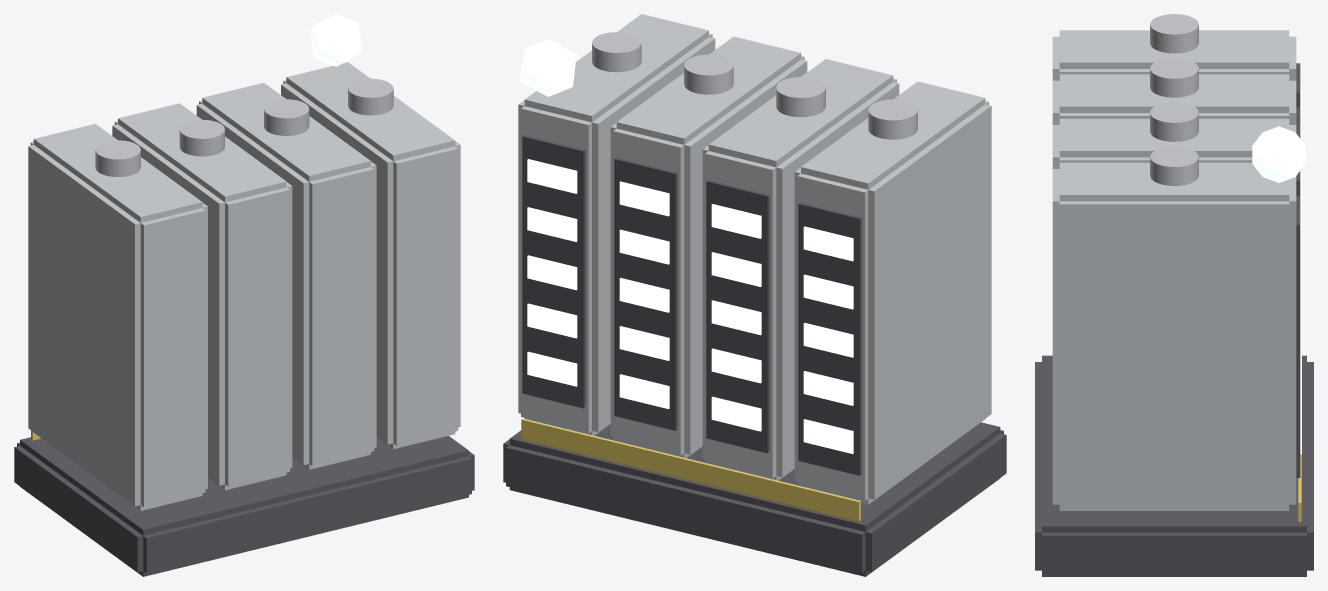
Rendered from base_battery.fbx.
3 renders of one model, left to right at view 1: azimuth 30°, elevation 25°; view 2: azimuth 150°, elevation 25°; view 3: azimuth 270°, elevation 25°, orthographic. The views are drawn at different scales.
Visible parts, largest first — view 1: base_battery, Indicator; view 2: base_battery, Indicator; view 3: base_battery, Indicator.
Boxes of the visible parts, x1=… form: base_battery: x1=14, y1=62, x2=474, y2=576; Indicator: x1=310, y1=14, x2=361, y2=66; base_battery: x1=503, y1=14, x2=1006, y2=576; Indicator: x1=520, y1=39, x2=576, y2=96; base_battery: x1=1035, y1=14, x2=1313, y2=576; Indicator: x1=1252, y1=126, x2=1305, y2=182.
Size of the model in its own units: 1.2 by 1.39 by 0.8.
